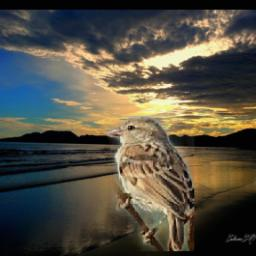Sparrow: (107, 116, 195, 251)
